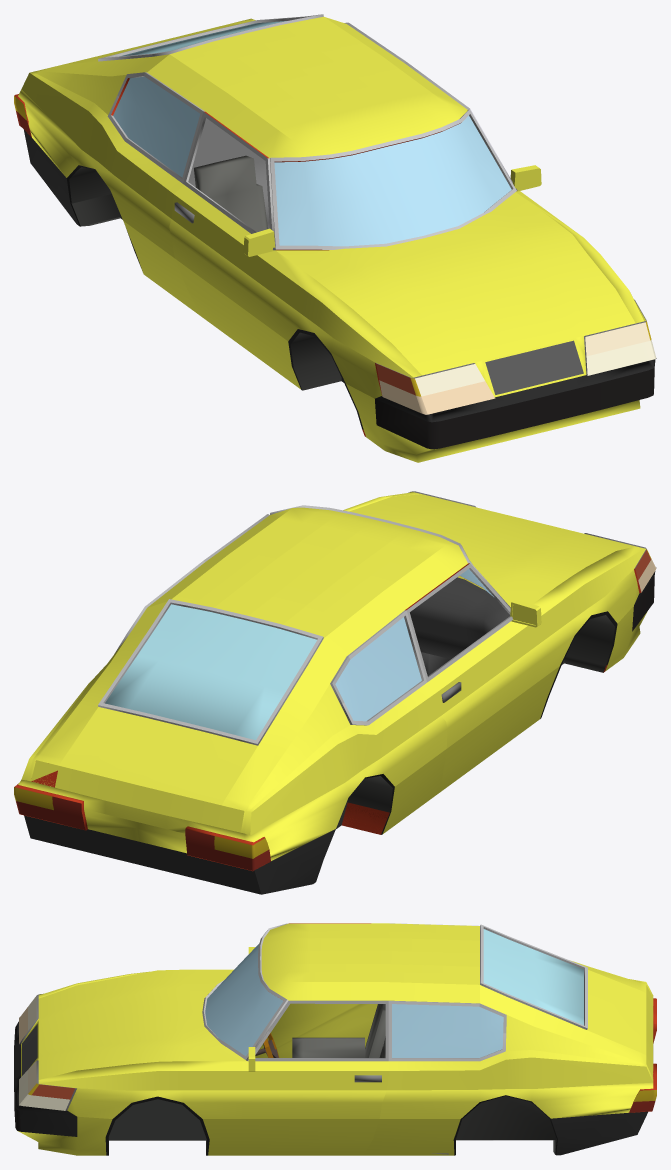
The model's file is Turbo_Yellow.fbx.
3 views of the same model, one above another, from view 1: azimuth 30°, elevation 25°; view 2: azimuth 150°, elevation 25°; view 3: azimuth 270°, elevation 25° (orthographic). The views are drawn at different scales.
Parts seen in each view (by area): view 1: Chassi, Hood, Glass, Door_R, Seats, Trunk, Door_L, TrunkGlass; view 2: Chassi, Trunk, TrunkGlass, Door_R, Hood, Glass; view 3: Chassi, Hood, Door_L, Glass, TrunkGlass, Trunk, Door_R, Seats.
Part boxes in pixels (box(x1,y1,x2,y2)): Chassi: box(14, 16, 656, 462); Hood: box(276, 192, 635, 375); Glass: box(113, 76, 511, 246); Door_R: box(169, 111, 278, 372); Seats: box(194, 155, 267, 232); Trunk: box(63, 14, 323, 64); Door_L: box(405, 62, 541, 195); TrunkGlass: box(120, 21, 286, 56); Chassi: box(14, 491, 656, 894); Trunk: box(55, 599, 323, 826); TrunkGlass: box(105, 604, 316, 740); Door_R: box(405, 563, 541, 791); Hood: box(349, 494, 634, 607); Glass: box(335, 560, 493, 721); Chassi: box(14, 923, 656, 1155); Hood: box(38, 969, 246, 1079); Door_L: box(242, 1000, 388, 1155); Glass: box(205, 944, 503, 1057); TrunkGlass: box(483, 929, 583, 1025); Trunk: box(480, 924, 652, 1068); Door_R: box(248, 923, 377, 1057); Seats: box(292, 1004, 385, 1057).
Size of the model in its own units: 2.14 by 1.42 by 5.18.
